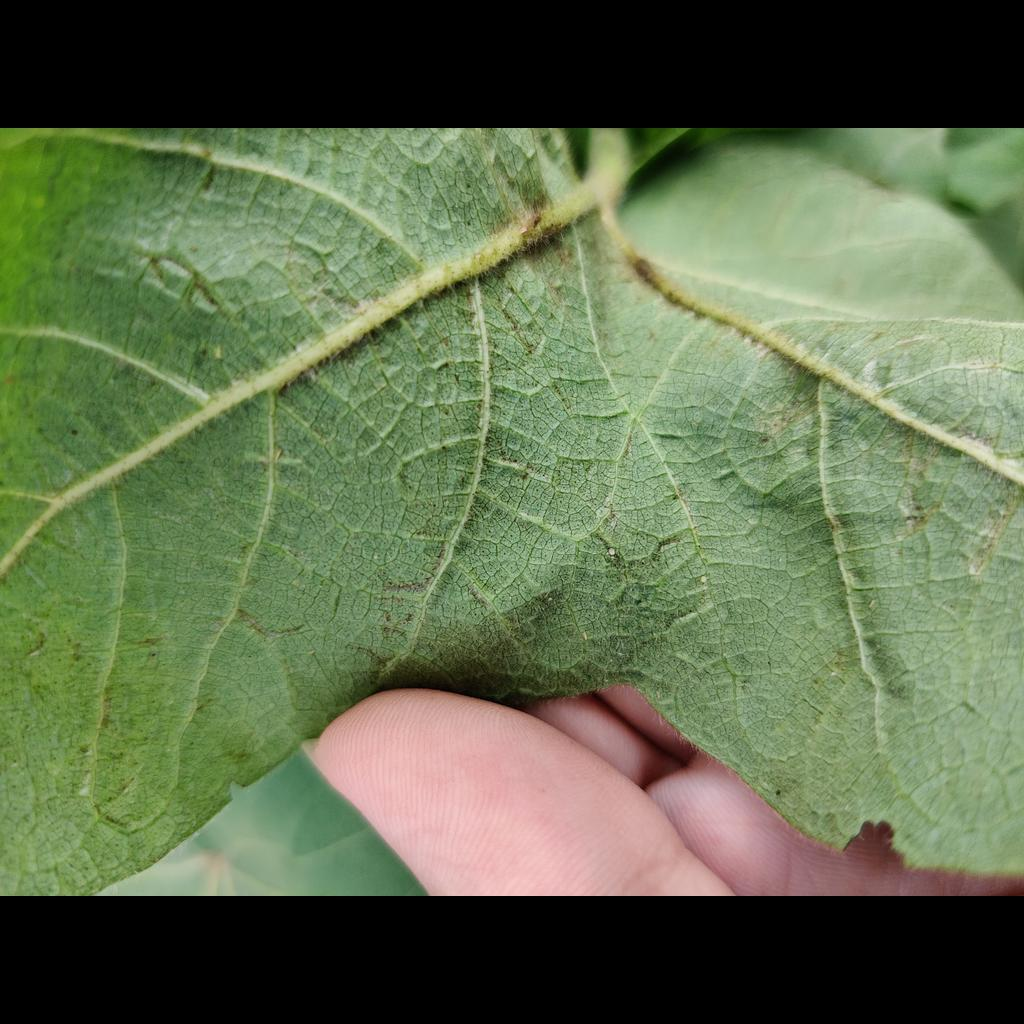nymph: (700, 575, 708, 583), (609, 547, 616, 556)
